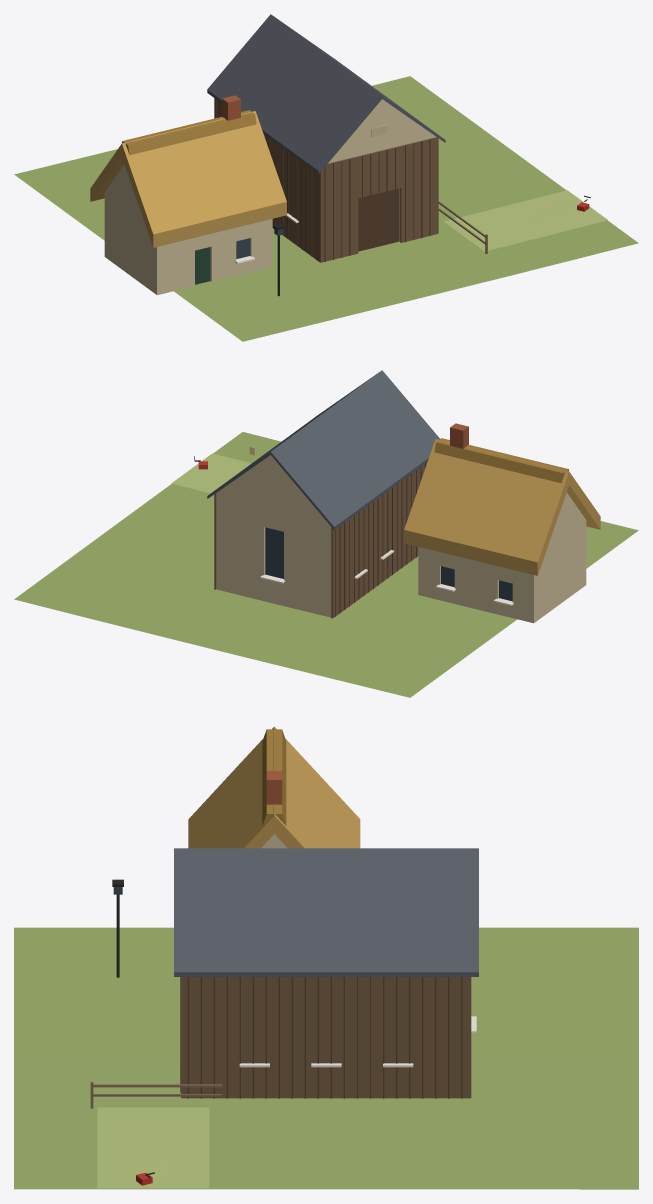
Rendered from chapel.glb.
The picture shows the model from 3 angles, top to bottom: view 1: azimuth 30°, elevation 25°; view 2: azimuth 150°, elevation 25°; view 3: azimuth 270°, elevation 25°; orthographic projection. The views are drawn at different scales.
Visible parts, largest first — view 1: ground, cut_roof_street_9, chapel_walls, cut_roof_chapel, street_9_shell, ground_areas, chapel_shell, street_9_walls; view 2: ground, cut_roof_street_9, cut_roof_chapel, chapel_shell, street_9_shell, chapel_walls, ground_areas, street_9_walls; view 3: ground, cut_roof_chapel, chapel_walls, cut_roof_street_9, ground_areas, boundaries.
Part boxes in pixels (x1,y1,x2,y2): ground: [14, 76, 638, 341]; cut_roof_street_9: [90, 95, 286, 247]; chapel_walls: [214, 98, 438, 262]; cut_roof_chapel: [207, 14, 445, 174]; street_9_shell: [104, 164, 272, 295]; ground_areas: [444, 190, 607, 251]; chapel_shell: [328, 99, 435, 241]; street_9_walls: [195, 238, 254, 284]; ground: [14, 432, 638, 697]; cut_roof_street_9: [404, 423, 600, 575]; cut_roof_chapel: [207, 370, 439, 530]; chapel_shell: [216, 455, 331, 617]; street_9_shell: [418, 492, 586, 623]; chapel_walls: [214, 462, 427, 618]; ground_areas: [171, 453, 251, 493]; street_9_walls: [436, 566, 513, 605]; ground: [14, 927, 638, 1189]; cut_roof_chapel: [174, 848, 478, 976]; chapel_walls: [180, 977, 476, 1098]; cut_roof_street_9: [188, 726, 360, 848]; ground_areas: [97, 1107, 209, 1188]; boundaries: [90, 1081, 222, 1108].
Size of the model in its own units: 25.56 by 9.32 by 24.
